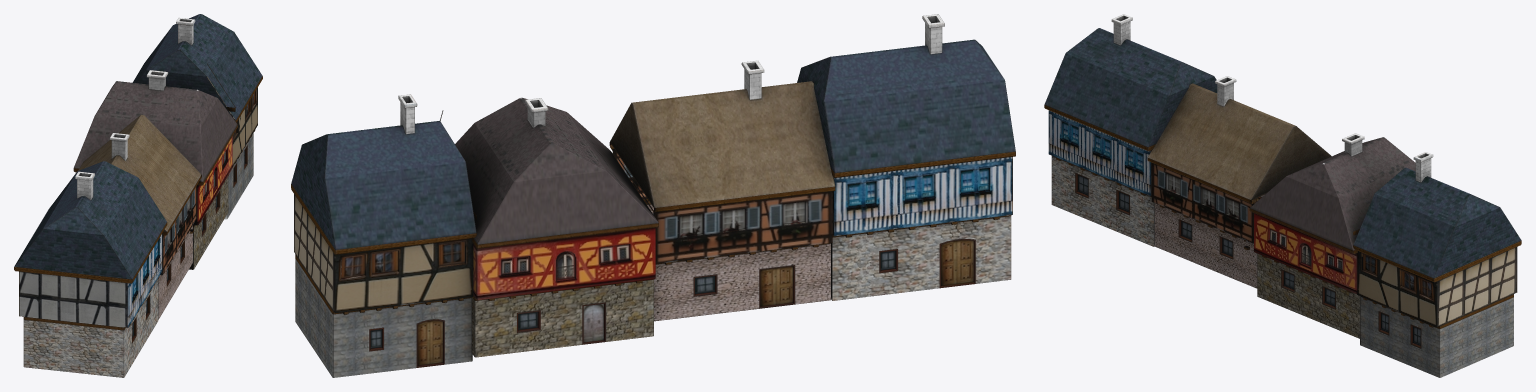
The picture shows the model from 3 angles, left to right: view 1: azimuth 30°, elevation 25°; view 2: azimuth 150°, elevation 25°; view 3: azimuth 270°, elevation 25°; orthographic projection. The views are drawn at different scales.
Visible parts, largest first — view 1: RigModels_CityBuilding002; view 2: RigModels_CityBuilding002; view 3: RigModels_CityBuilding002.
Part boxes in pixels (x1,y1,x2,y2): RigModels_CityBuilding002: [14, 14, 262, 377]; RigModels_CityBuilding002: [291, 14, 1015, 377]; RigModels_CityBuilding002: [1044, 14, 1521, 377].
Size of the model in its own units: 3211 by 3264 by 1488.
Materials: 1 (1 with a texture image).
